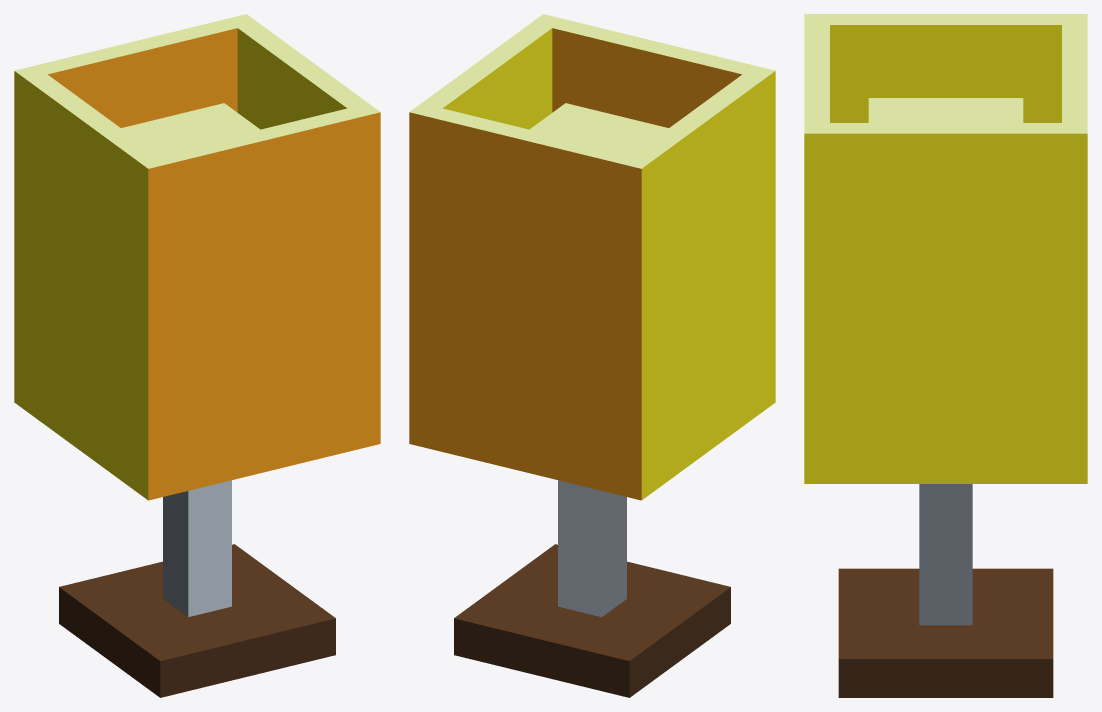
File: BedLamp.fbx
3 renders of one model, left to right at view 1: azimuth 30°, elevation 25°; view 2: azimuth 150°, elevation 25°; view 3: azimuth 270°, elevation 25°, orthographic. The views are drawn at different scales.
Visible parts, largest first — view 1: BedLamp; view 2: BedLamp; view 3: BedLamp.
Part boxes in pixels (x1,y1,x2,y2): BedLamp: (14, 14, 380, 697); BedLamp: (409, 14, 775, 697); BedLamp: (804, 14, 1087, 697).
Bounding box in the file's own units: 34.38 × 77.47 × 34.38.
